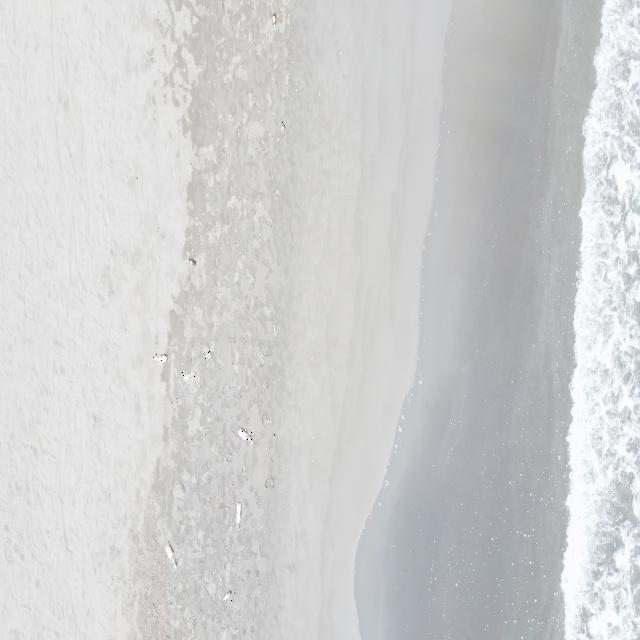glass: (164, 541, 177, 569), (236, 427, 252, 445), (236, 502, 242, 532), (182, 372, 196, 382), (151, 354, 168, 362), (222, 590, 232, 602), (187, 256, 196, 266), (205, 351, 212, 361), (272, 14, 277, 28), (280, 122, 286, 132)
